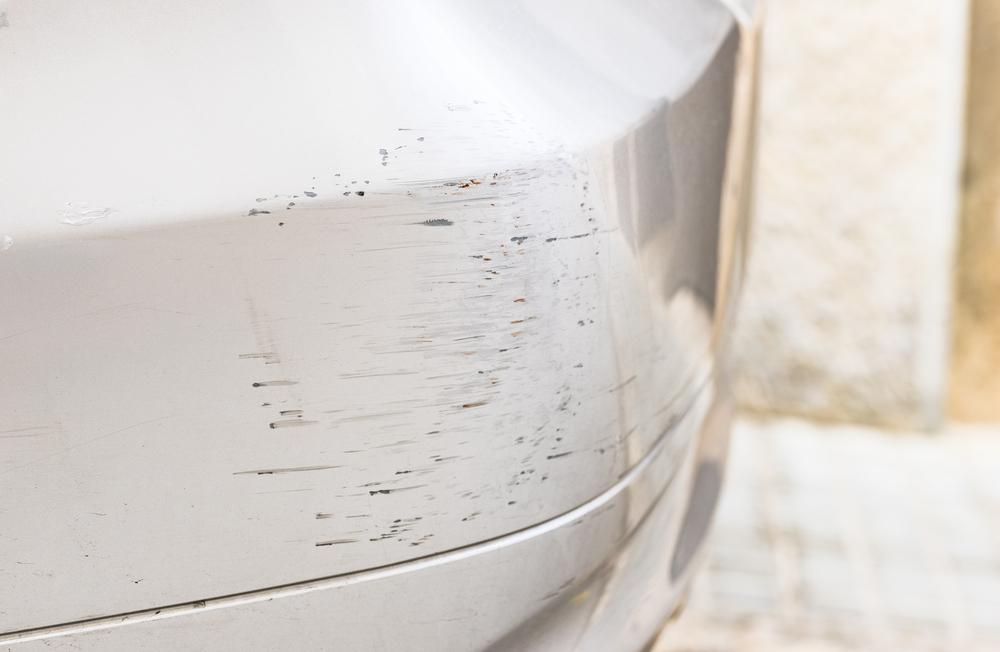scratch: (233, 94, 615, 559)
